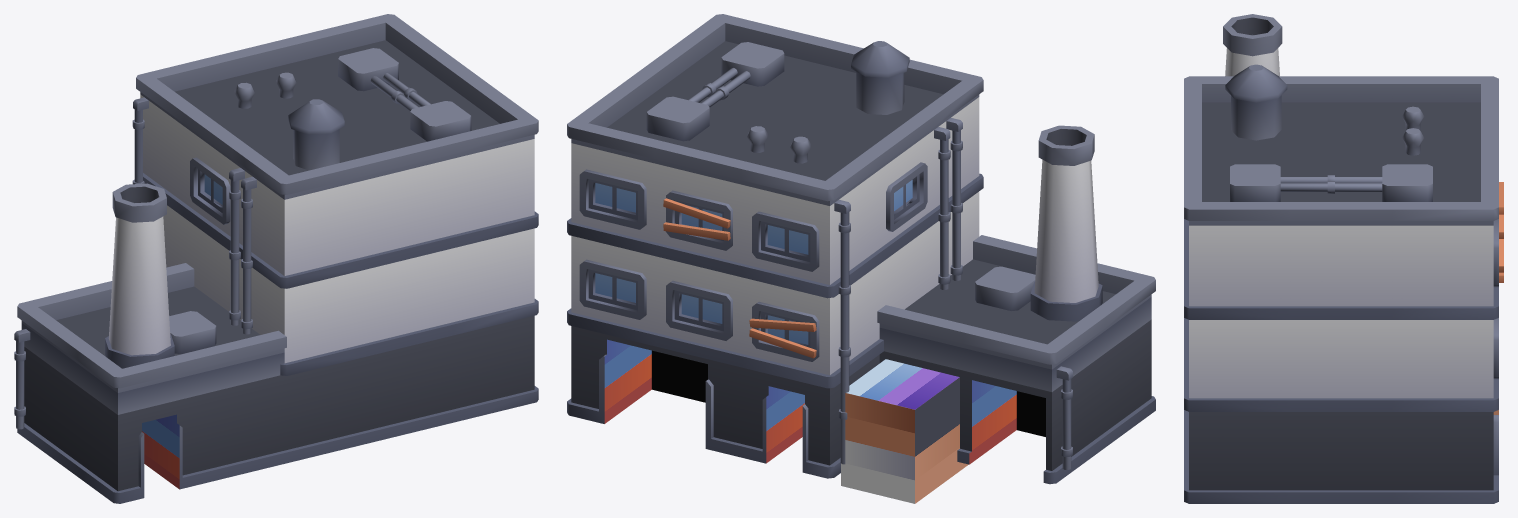
File: building-b-enterable.glb
The picture shows the model from 3 angles, left to right: view 1: azimuth 30°, elevation 25°; view 2: azimuth 150°, elevation 25°; view 3: azimuth 270°, elevation 25°; orthographic projection. The views are drawn at different scales.
Parts seen in each view (by area): view 1: building-b-enterable; view 2: building-b-enterable; view 3: building-b-enterable.
Part boxes in pixels (<box>): building-b-enterable: <box>14,14,538,503</box>; building-b-enterable: <box>567,14,1155,503</box>; building-b-enterable: <box>1184,14,1503,503</box>.
Size of the model in its own units: 2.08 by 1.52 by 1.26.
Materials: 1 (1 with a texture image).
